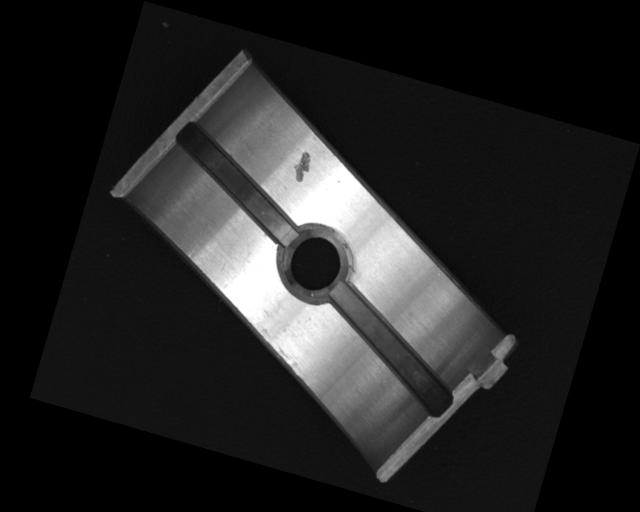bruise: (289, 147, 315, 184)
gap: (307, 278, 473, 418), (157, 118, 318, 246)
hole: (275, 216, 356, 306)
